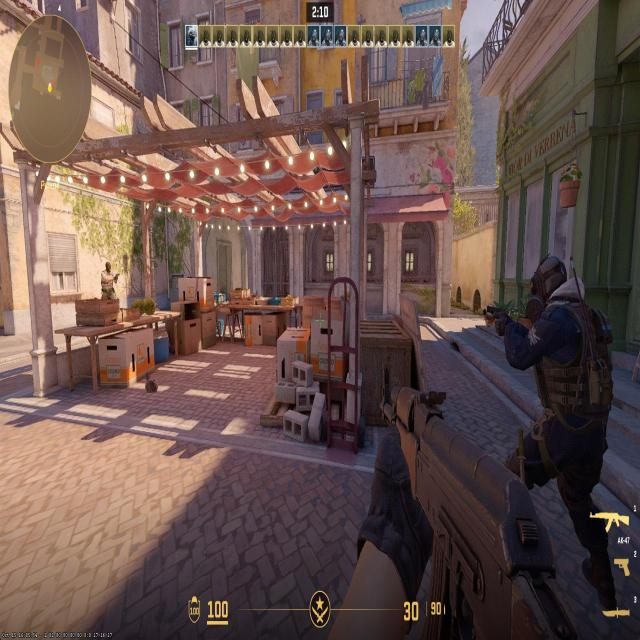CT: (536, 270, 596, 483)
CT_heat: (542, 278, 564, 306)
